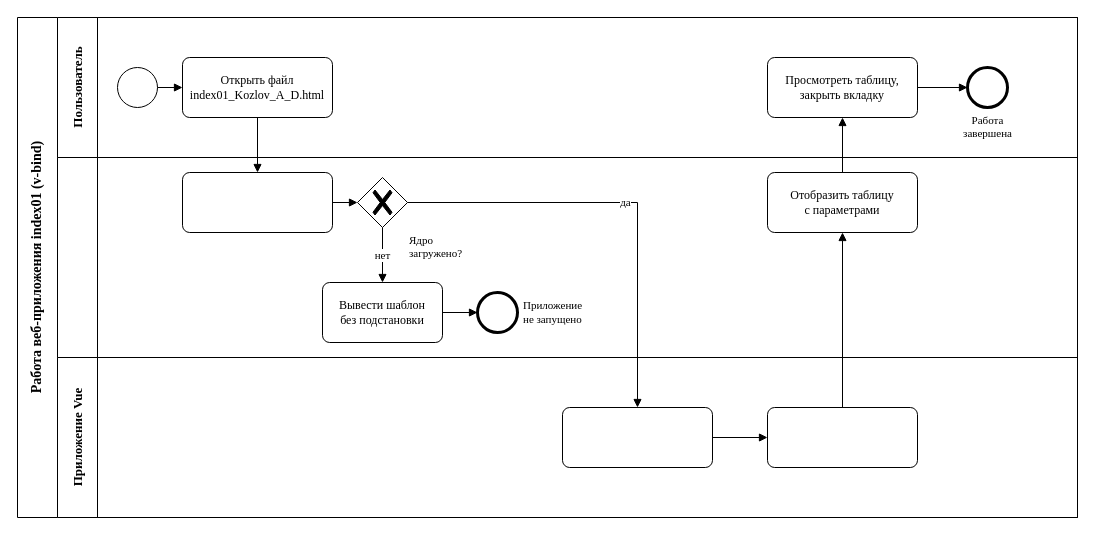
This 1095x535 diagram has some shape labels left out. Here are the shapes that lost their labels. From the top down, the box of each, then its label:
(116, 66, 158, 108): Нужно открыть приложение
(182, 172, 332, 232): Разобрать HTML, загрузить vue.global.js
(56, 156, 1078, 358): Браузер
(562, 406, 712, 468): createApp(), setup(), mount('#app')
(766, 406, 918, 468): Подставить значения параметров (v-bind, {{ }})
